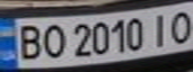0: (124, 14, 148, 52), (90, 18, 112, 56)
1: (109, 16, 130, 54)
2: (69, 19, 93, 58)
B: (12, 21, 45, 62)
I: (145, 10, 175, 46)
O: (36, 21, 66, 61), (166, 7, 193, 44)
